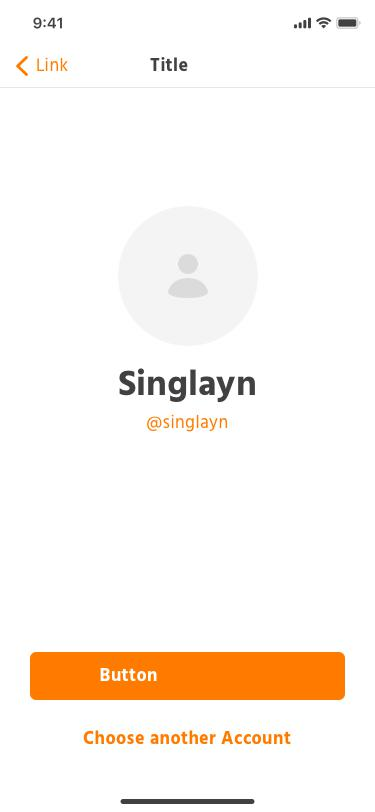Icon: (118, 205, 257, 345), (17, 56, 31, 76)
Text: (119, 367, 257, 404), (82, 730, 292, 744), (146, 413, 229, 433), (151, 57, 190, 73), (37, 57, 71, 73)
TextButton: (30, 652, 346, 700)
UpperTaskBar: (34, 17, 362, 30)
